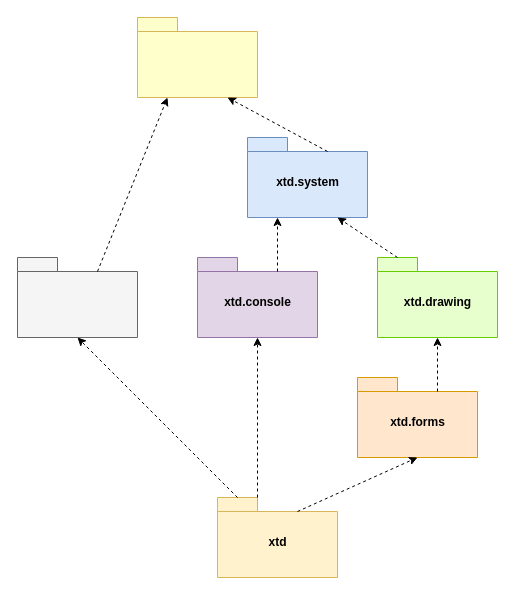
Some shapes in this 515 by 595 pixel diagram are drawn without their labels. Each missing label, with the centre of its shape:
"std" goes at pixel 197 57.
"xtd.tunit" goes at pixel 77 297.
